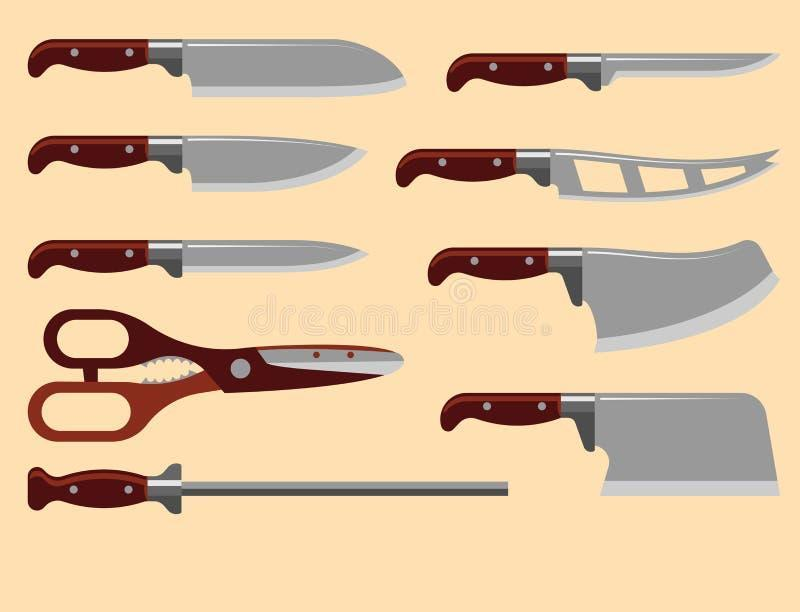faca: (428, 240, 776, 351), (440, 393, 778, 494), (28, 39, 404, 95), (396, 149, 774, 199), (28, 136, 363, 190), (28, 240, 365, 278), (446, 53, 775, 91)
tesoura: (28, 309, 402, 441)
